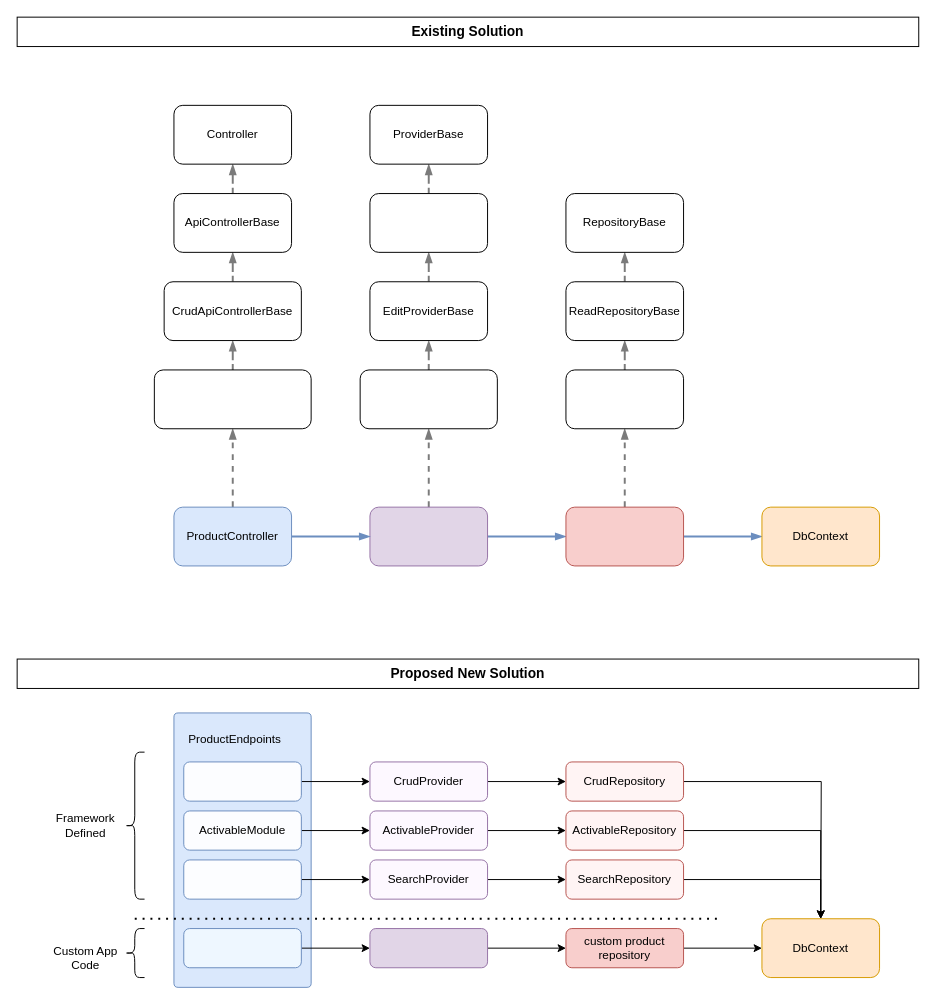
This 936x1005 diagram has some shape labels left out. The box of each missing label's shape, as (x1, y1, x2, y2) in pixels:
ActivableApiControllerBase: (153, 369, 311, 429)
ActivableProviderBase: (359, 369, 497, 429)
CrudModule: (183, 761, 301, 801)
Custom product endpoints: (183, 928, 301, 968)
custom product provider: (369, 928, 488, 968)
EditRepositoryBase: (565, 369, 684, 429)
ProductProvider: (369, 506, 488, 566)
ProductRepository: (565, 506, 684, 566)
ReadProviderBase: (369, 193, 488, 252)
SearchModule: (183, 859, 301, 899)
